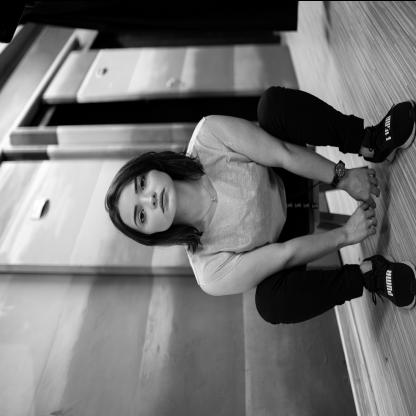Eye: (136, 205, 148, 226), (137, 173, 147, 191)
Mouth: (158, 186, 170, 211)
Nose: (139, 191, 157, 207)
